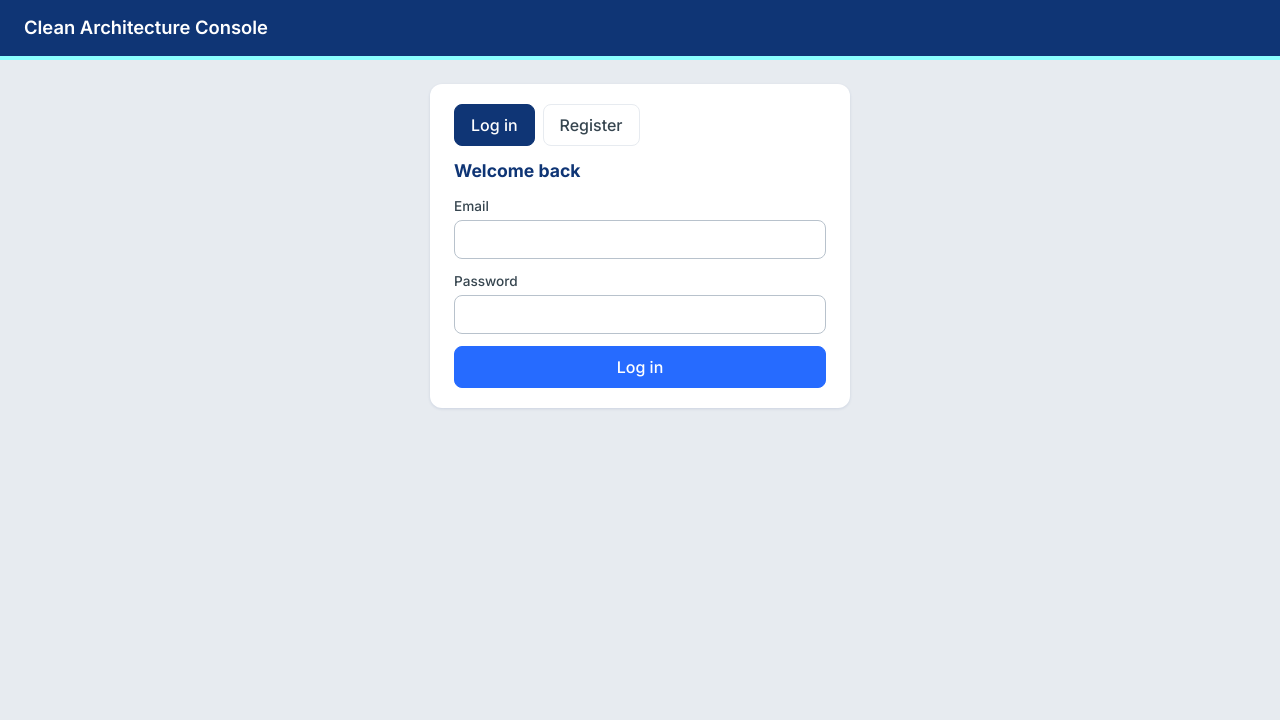
Test case: register › mc04 a bad email shows the validation error
The width and height of the screenshot is (1280, 720).
Click the tab "Register". click: (591, 125)
box: [542,104,640,146]
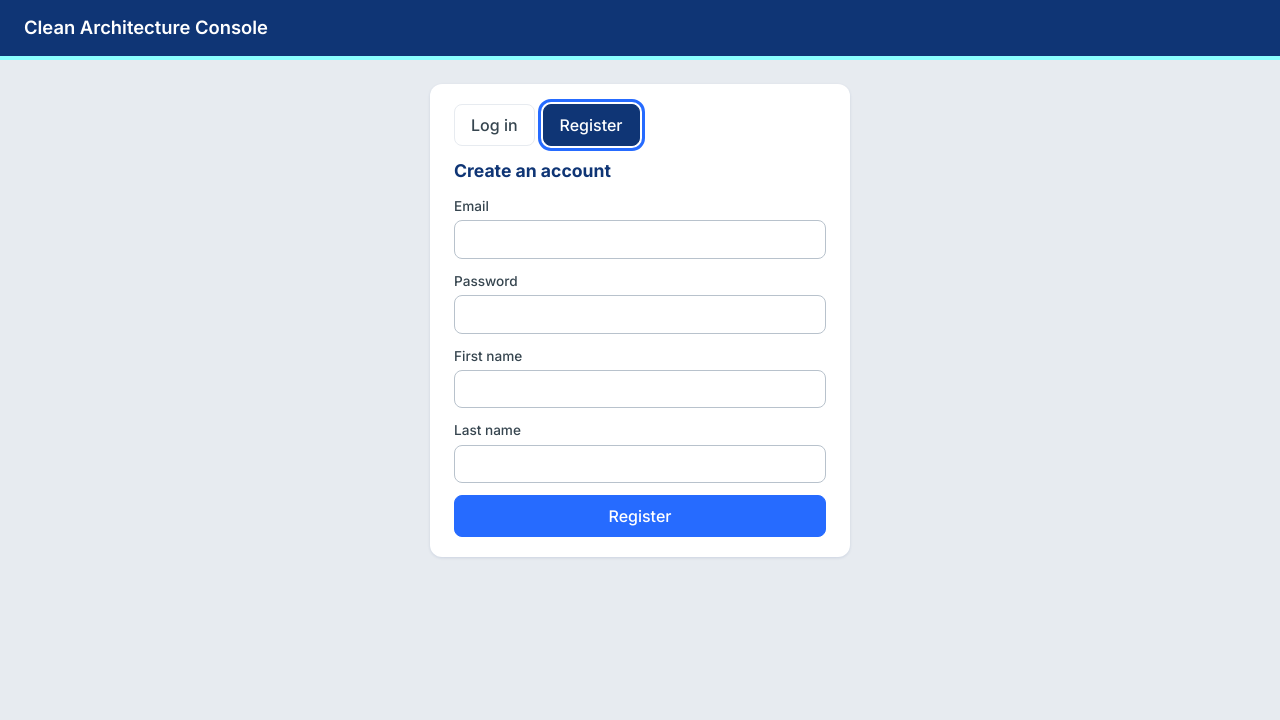
Type "plainaddress" into the field labelled "Email". click: (640, 240)
box: [454,220,826,259]
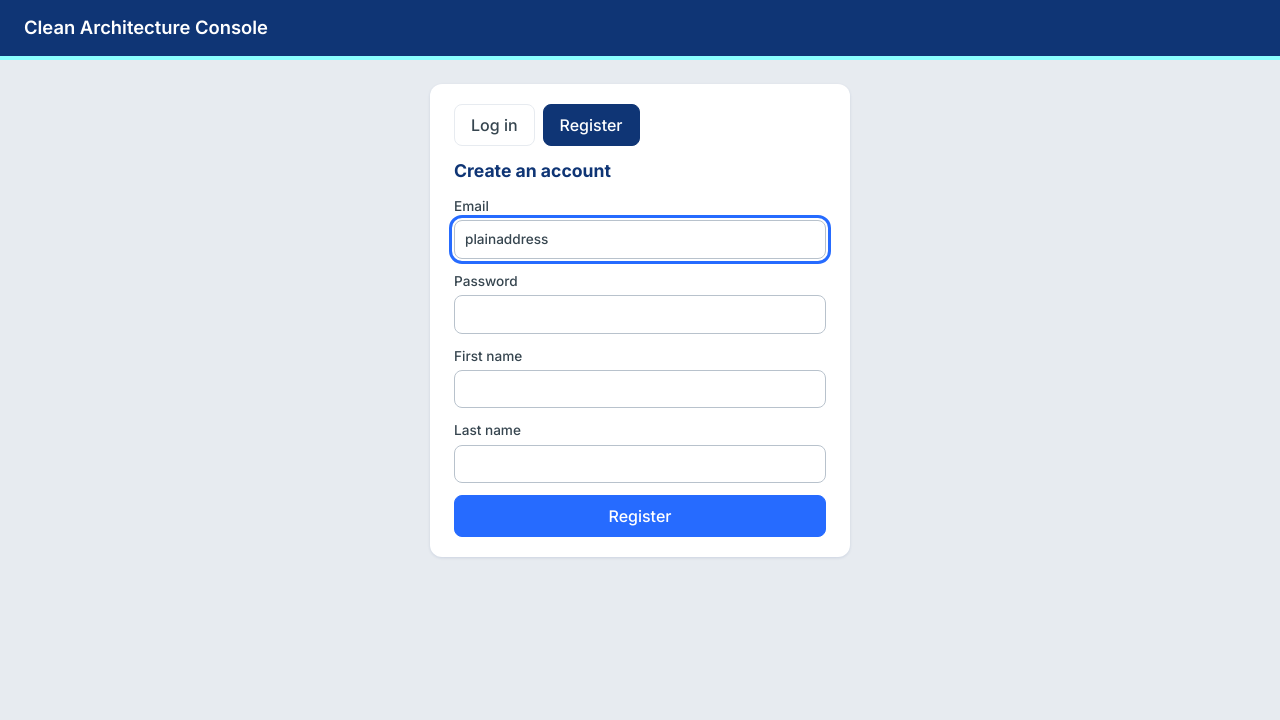
Type "pw123456" into the password field labelled "Password". click: (640, 314)
box: [454,295,826,334]
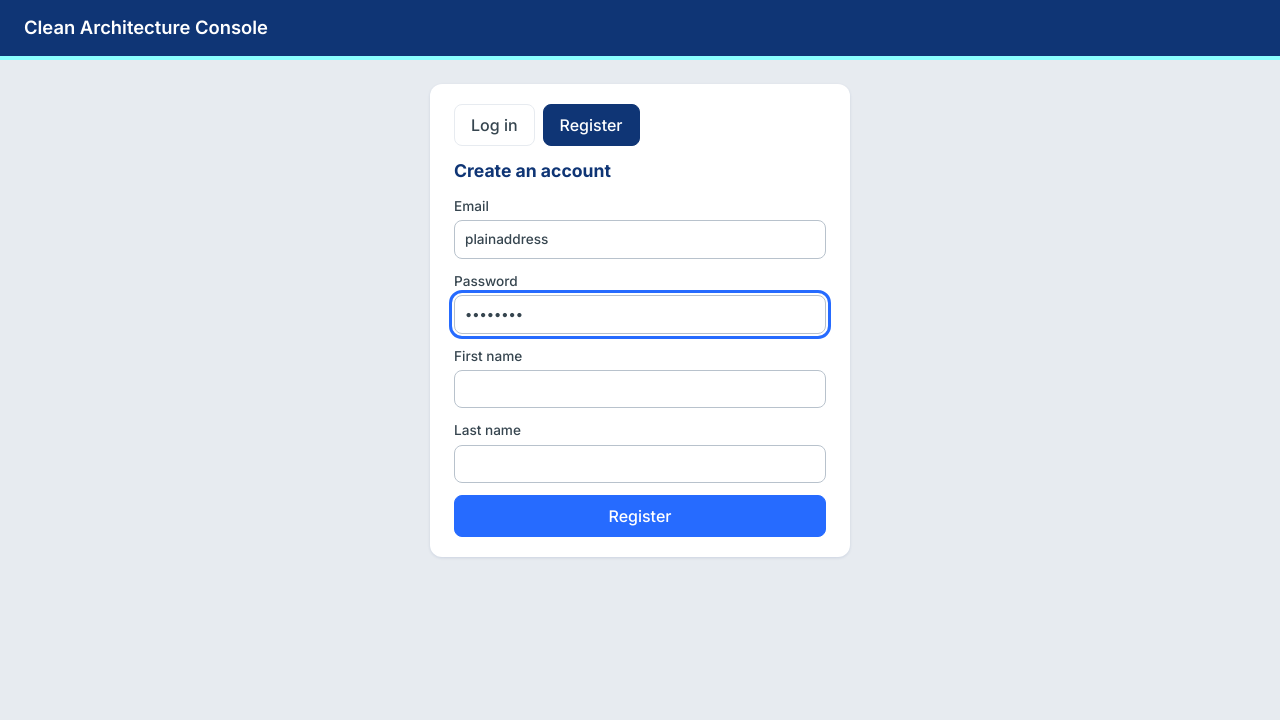
Click the button "Register". click: (640, 516)
box: [454,495,826,537]
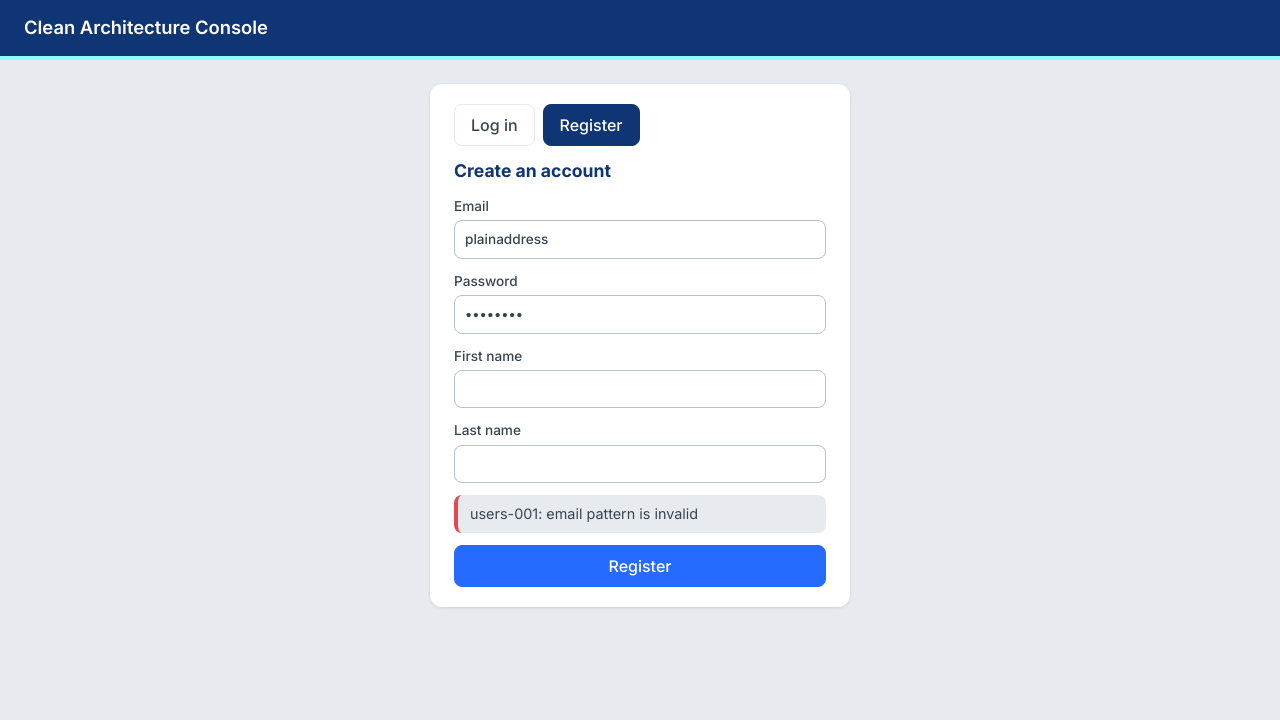
Now the message reads "users-001: email pattern is invalid", box [470,505,698,522]
